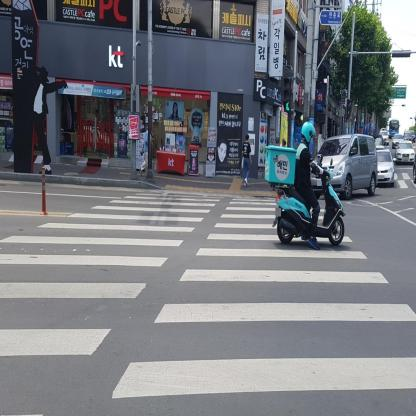Green: (283, 78, 291, 112)
